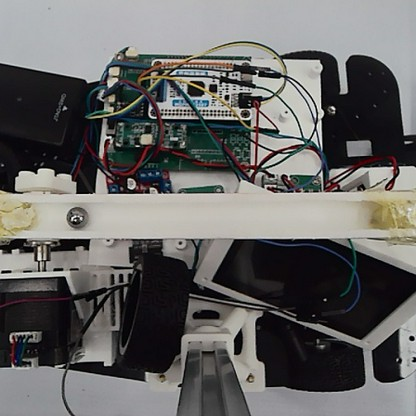ironball: (64, 205, 90, 229)
